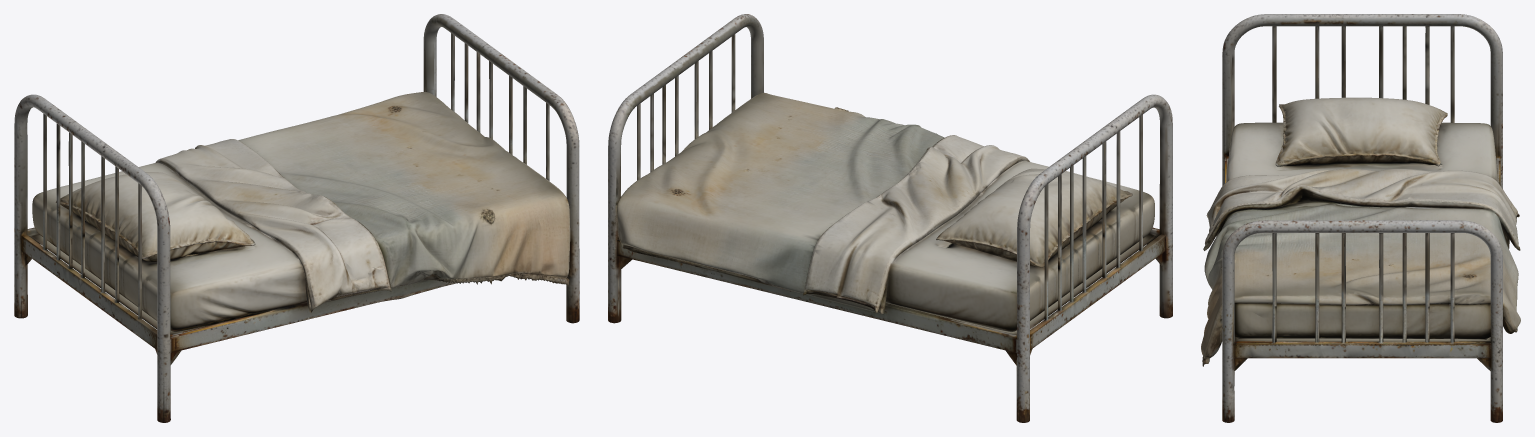
The picture shows the model from 3 angles, left to right: view 1: azimuth 30°, elevation 25°; view 2: azimuth 150°, elevation 25°; view 3: azimuth 270°, elevation 25°; orthographic projection. The views are drawn at different scales.
Parts seen in each view (by area): view 1: node_0; view 2: node_0; view 3: node_0.
Part boxes in pixels (x1=…): node_0: x1=14, y1=14, x2=579, y2=422; node_0: x1=608, y1=14, x2=1172, y2=422; node_0: x1=1201, y1=14, x2=1520, y2=422.
Bounding box in the file's own units: 93.79 × 49.62 × 65.83.
